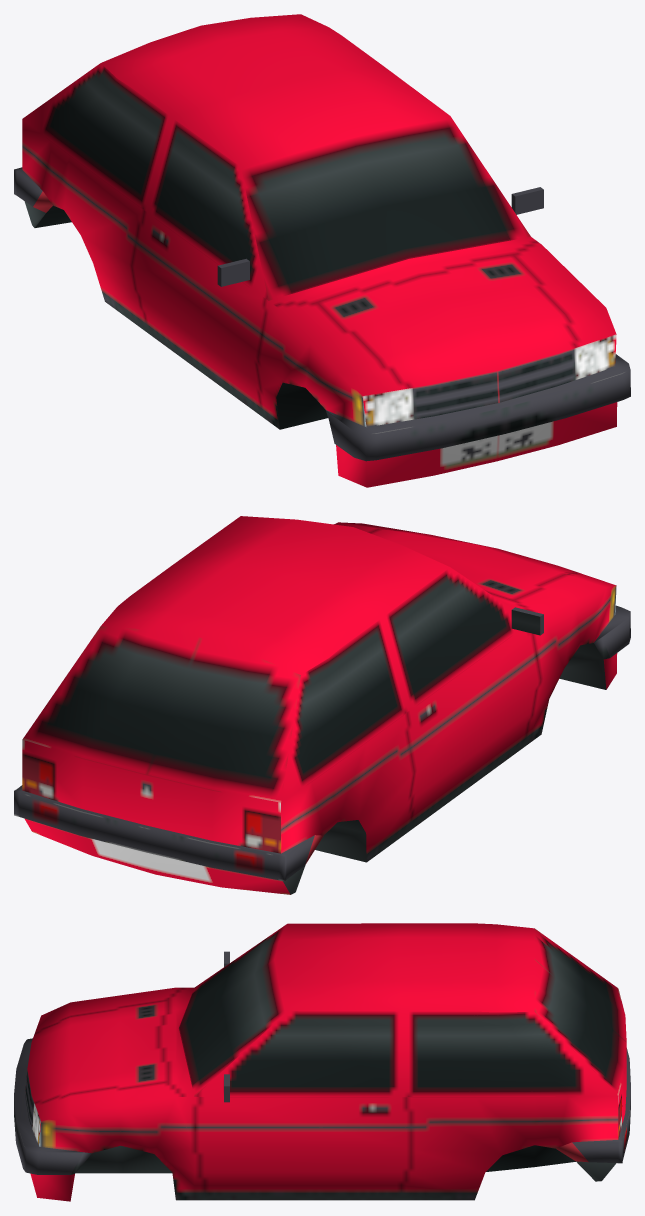
Rendered from euro_hatch.obj.
The picture shows the model from 3 angles, top to bottom: view 1: azimuth 30°, elevation 25°; view 2: azimuth 150°, elevation 25°; view 3: azimuth 270°, elevation 25°; orthographic projection. The views are drawn at different scales.
Visible parts, largest first — view 1: euro_hatch; view 2: euro_hatch; view 3: euro_hatch.
Boxes of the visible parts, x1,y1,x2,y2 form: euro_hatch: (14,14,630,487); euro_hatch: (14,516,630,894); euro_hatch: (14,923,630,1201).
Bounding box in the file's own units: 1.73 × 1.13 × 3.35.
Materials: 1 (1 with a texture image).
